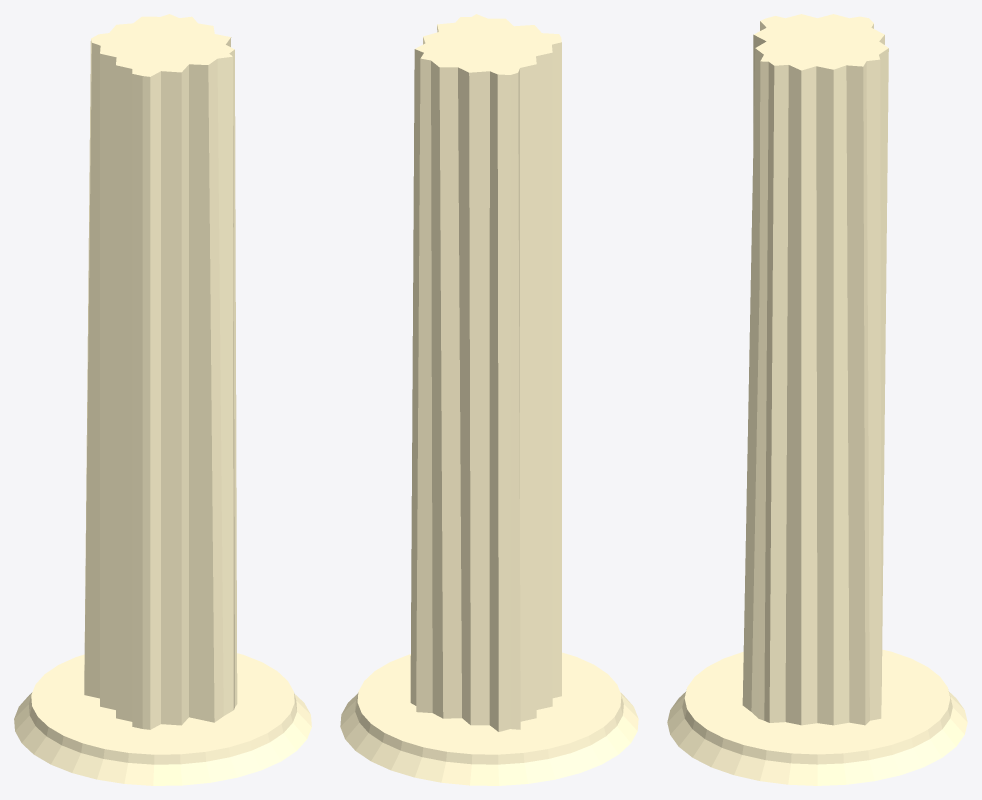
File: Column01.fbx
3 views of the same model, side by side, from view 1: azimuth 30°, elevation 25°; view 2: azimuth 150°, elevation 25°; view 3: azimuth 270°, elevation 25° (orthographic).
Parts seen in each view (by area): view 1: Column, Base; view 2: Column, Base; view 3: Column, Base.
Part boxes in pixels (x1,y1,x2,y2): Column: (84, 14, 237, 729); Base: (14, 653, 311, 785); Column: (410, 14, 561, 731); Base: (340, 652, 638, 785); Column: (742, 14, 888, 725); Base: (667, 649, 967, 785).
Bounding box in the file's own units: 200 × 501 × 200.
